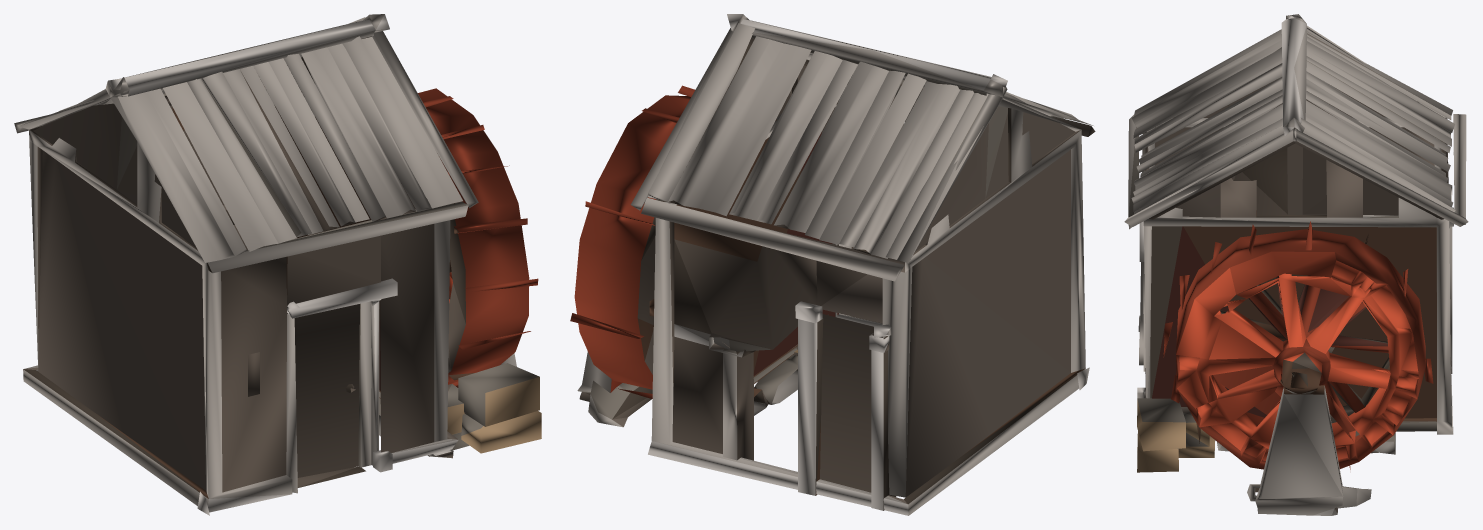
The model's file is sluice_shed_a_lod2_tripo.glb.
3 renders of one model, left to right at view 1: azimuth 30°, elevation 25°; view 2: azimuth 150°, elevation 25°; view 3: azimuth 270°, elevation 25°, orthographic. The views are drawn at different scales.
Visible parts, largest first — view 1: Surface.001; view 2: Surface.001; view 3: Surface.001.
Boxes of the visible parts, x1,y1,x2,y2 form: Surface.001: [14, 14, 541, 515]; Surface.001: [570, 14, 1095, 515]; Surface.001: [1124, 14, 1468, 515].
Bounding box in the file's own units: 5.93 × 5.65 × 5.2.
